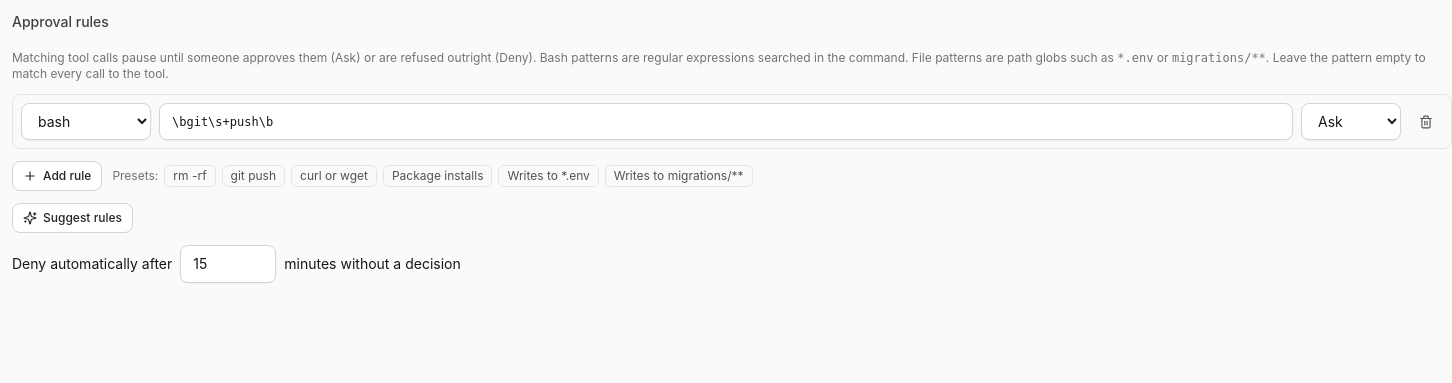
PolicyEditor Suggest rules › appends new suggested rules, skips duplicates, explains, and Undo restores
Click the button with aria-label "Suggest approval rules": (72, 218) [12,203,133,233]
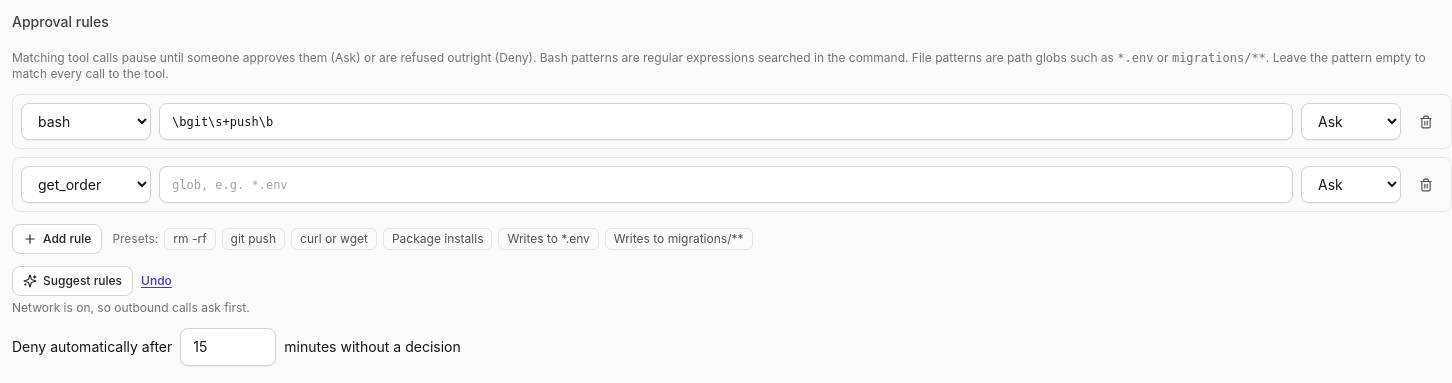
Now the number of list items with test id "policy-rule" is 2, box [12,94,1451,149]; [12,157,1451,212]
Now the dropdown named "Rule 2 tool" shows "get_order", box [21,166,151,203]
Now the text with test id "rules-explanation" shows "Network is on", box [12,300,250,315]
Click the button "Undo": (156, 281) [141,273,172,289]
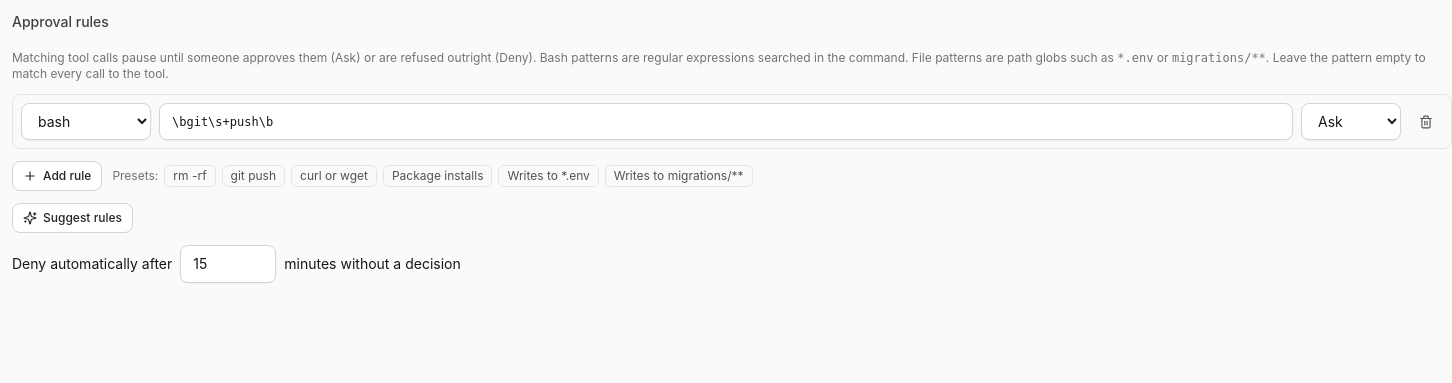
Now the number of list items with test id "policy-rule" is 1, box [12,94,1451,149]
